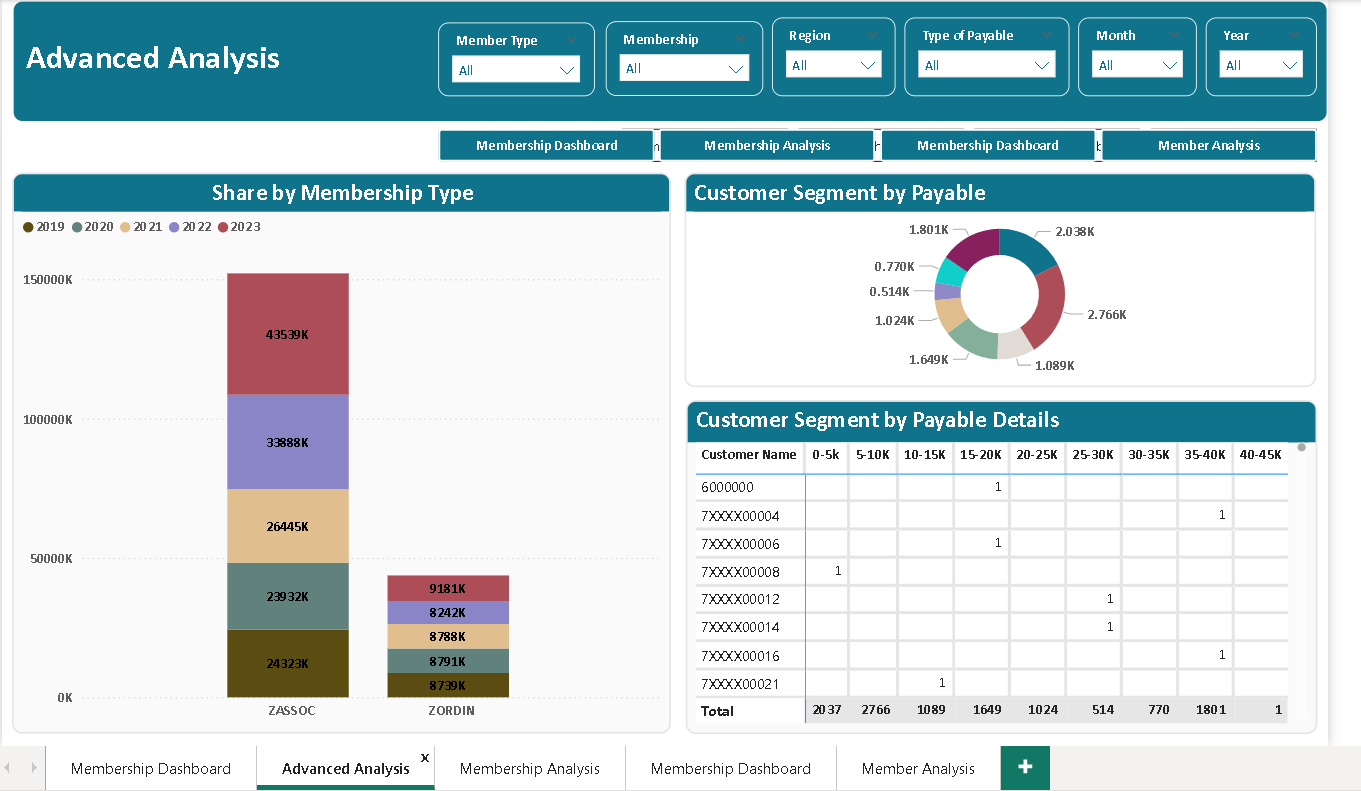

The dashboard page shown, as its layout file describes it:
{"tool":"powerbi","page":{"name":"Advanced Analysis","canvas":[1280,720],"ordinal":1},"visuals":[{"type":"textbox","box":[9.7,0,1270.4,118.2],"z":0},{"type":"textbox","box":[18.1,30.2,354.7,54.3],"z":1000},{"type":"slicer","fields":{"Values":["Membership POC.post_date.Variation.Date Hierarchy.Month"]},"box":[1038.7,16.9,114.6,76],"z":2000},{"type":"slicer","fields":{"Values":["Membership POC.Type of Firm"]},"box":[871.1,16.9,159.3,76],"z":3000},{"type":"slicer","fields":{"Values":["Membership POC.Region"]},"box":[743.2,16.9,119.4,76],"z":4000},{"type":"slicer","fields":{"Values":["Membership POC.post_date.Variation.Date Hierarchy.Year"]},"box":[1161.8,16.9,107.4,76],"z":5000},{"type":"slicer","fields":{"Values":["Membership POC.Member Type"]},"box":[421,21.7,150.8,71.2],"z":6000},{"type":"slicer","fields":{"Values":["Membership POC.Membership Type"]},"box":[582.7,20.5,152,72.4],"z":7000},{"type":"columnChart","title":"Share by Membership Type","fields":{"Category":["Membership POC.Membership Type"],"Y":["Sum(Membership POC.total_payable)"],"Series":["Membership POC.post_date.Variation.Date Hierarchy.Year"]},"box":[9.7,166.5,635.8,541.7],"z":8000},{"type":"pageNavigator","box":[598.4,124.3,670.8,32.6],"z":9000},{"type":"pageNavigator","box":[421,124.3,848.1,32.6],"z":10000},{"type":"pivotTable","title":"Customer Segment by Payable Details","fields":{"Rows":["Membership POC.Customer Name"],"Values":["Membership POC.0-5k","Membership POC.5-10K","Membership POC.10-15K","Membership POC.15-20K","Membership POC.20-25K","Membership POC.25-30K","Membership POC.30-35K","Membership POC.35-40K","Membership POC.40-45K"]},"box":[659.3,385.2,610.3,323.2],"z":11000},{"type":"donutChart","title":"Customer Segment by Payable","fields":{"Y":["Membership POC.0-5k","Membership POC.5-10K","Membership POC.10-15K","Membership POC.15-20K","Membership POC.20-25K","Membership POC.25-30K","Membership POC.30-35K","Membership POC.35-40K"]},"box":[659.9,166.5,608,207.5],"z":12000}]}

Visuals, with their boxes on the page's 1280x720 design canvas (x1, y1, x2, y2). These are canvas units, not pixel positions in the 1361x791 screenshot, which may show the page scaled, cropped or inside an application window:
textbox: 10:0:1280:118
textbox: 18:30:373:84
slicer - Membership POC.post_date.Variation.Date Hierarchy.Month: 1039:17:1153:93
slicer - Membership POC.Type of Firm: 871:17:1030:93
slicer - Membership POC.Region: 743:17:863:93
slicer - Membership POC.post_date.Variation.Date Hierarchy.Year: 1162:17:1269:93
slicer - Membership POC.Member Type: 421:22:572:93
slicer - Membership POC.Membership Type: 583:20:735:93
"Share by Membership Type" columnChart: 10:166:646:708
pageNavigator: 598:124:1269:157
pageNavigator: 421:124:1269:157
"Customer Segment by Payable Details" pivotTable: 659:385:1270:708
"Customer Segment by Payable" donutChart: 660:166:1268:374
